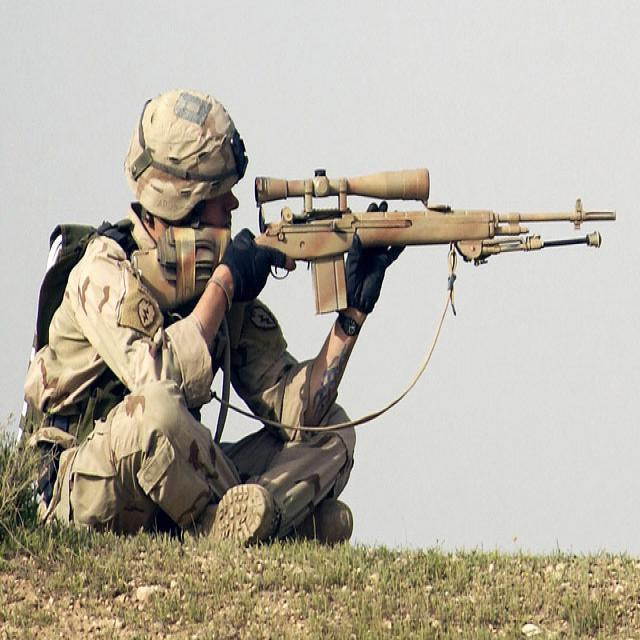rifle: (148, 158, 624, 320)
